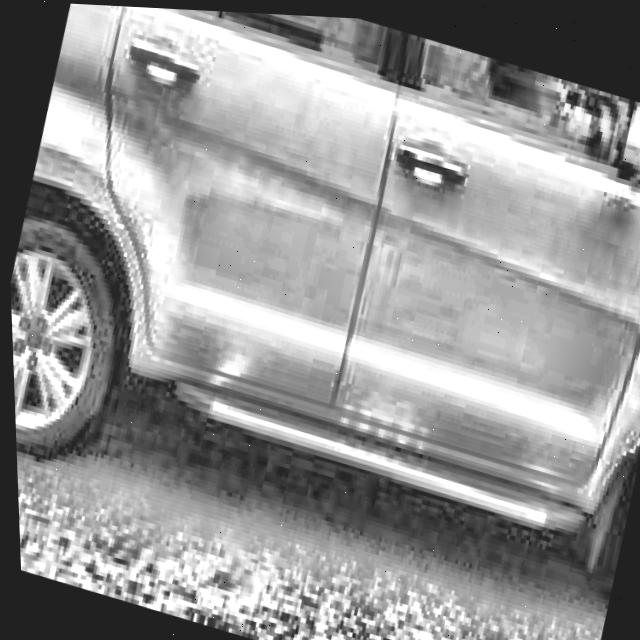light_vehicle: (0, 0, 640, 626)
